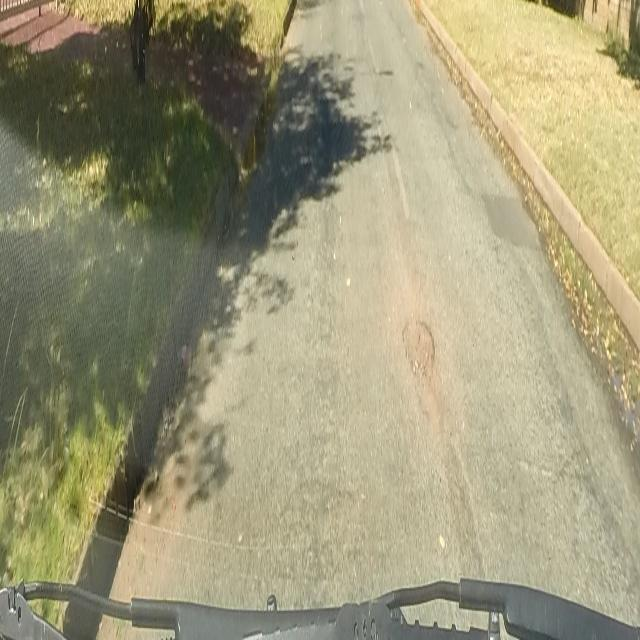pothole: (401, 308, 436, 388)
